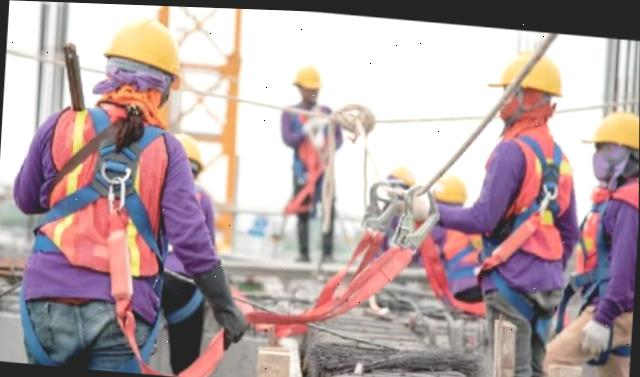helmet: (103, 11, 194, 83), (476, 40, 573, 97), (579, 100, 640, 145), (370, 150, 417, 193), (426, 165, 470, 202), (292, 64, 331, 91)
vest: (35, 88, 179, 281), (485, 119, 581, 270), (581, 171, 639, 314), (411, 216, 483, 291), (294, 106, 354, 179)
